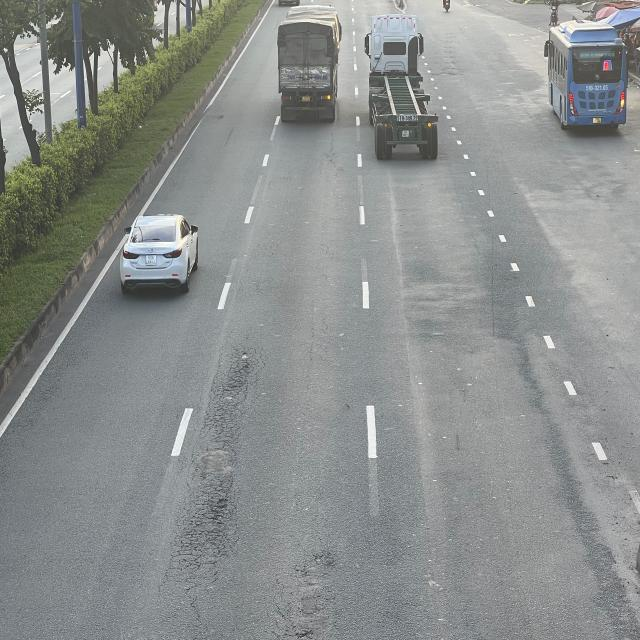car: (120, 214, 200, 294)
coach: (545, 21, 629, 129)
container: (364, 13, 438, 158)
truck: (275, 9, 341, 124)
